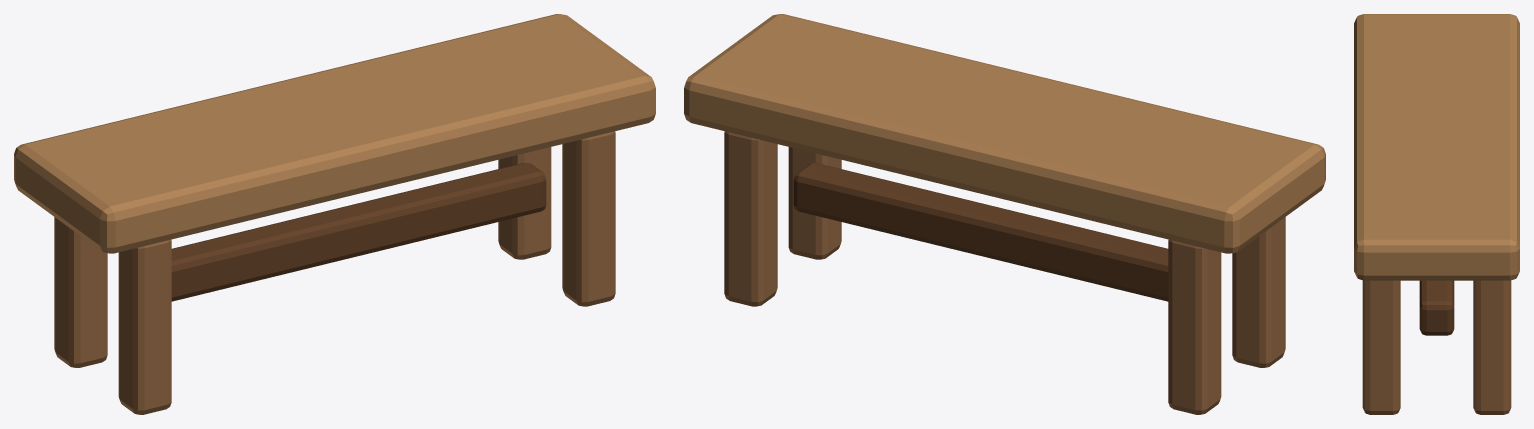
File: bench_rustic_1p6.glb
3 renders of one model, left to right at view 1: azimuth 30°, elevation 25°; view 2: azimuth 150°, elevation 25°; view 3: azimuth 270°, elevation 25°, orthographic. The views are drawn at different scales.
Visible parts, largest first — view 1: bench_seat, bench_brace, bench_leg_+0.64_-0.16, bench_leg_-0.64_-0.16, bench_leg_-0.64_+0.16, bench_leg_+0.64_+0.16; view 2: bench_seat, bench_brace, bench_leg_+0.64_+0.16, bench_leg_-0.64_+0.16, bench_leg_-0.64_-0.16, bench_leg_+0.64_-0.16; view 3: bench_seat, bench_leg_+0.64_-0.16, bench_leg_+0.64_+0.16, bench_brace.
Part boxes in pixels (bbox=[...]): bench_seat: bbox=[14, 14, 655, 253]; bench_brace: bbox=[171, 163, 546, 301]; bench_leg_+0.64_-0.16: bbox=[562, 131, 615, 306]; bench_leg_-0.64_-0.16: bbox=[118, 239, 171, 414]; bench_leg_-0.64_+0.16: bbox=[54, 217, 107, 367]; bench_leg_+0.64_+0.16: bbox=[498, 147, 551, 259]; bench_seat: bbox=[684, 14, 1325, 253]; bench_brace: bbox=[793, 163, 1168, 301]; bench_leg_+0.64_+0.16: bbox=[724, 131, 777, 306]; bench_leg_-0.64_+0.16: bbox=[1168, 239, 1221, 414]; bench_leg_-0.64_-0.16: bbox=[1232, 217, 1285, 367]; bench_leg_+0.64_-0.16: bbox=[788, 147, 841, 259]; bench_seat: bbox=[1354, 14, 1519, 280]; bench_leg_+0.64_-0.16: bbox=[1362, 280, 1400, 414]; bench_leg_+0.64_+0.16: bbox=[1473, 280, 1511, 414]; bench_brace: bbox=[1419, 280, 1454, 335].
Size of the model in its own units: 1.6 by 0.605 by 0.48.
